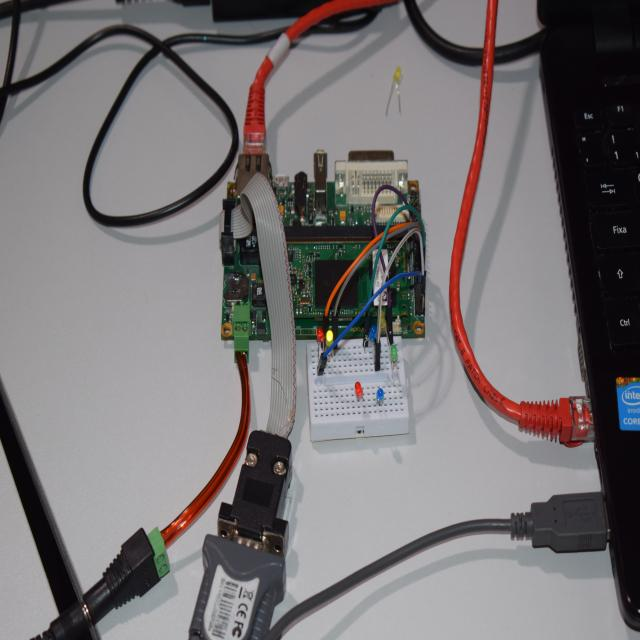som: (277, 225, 412, 319)
